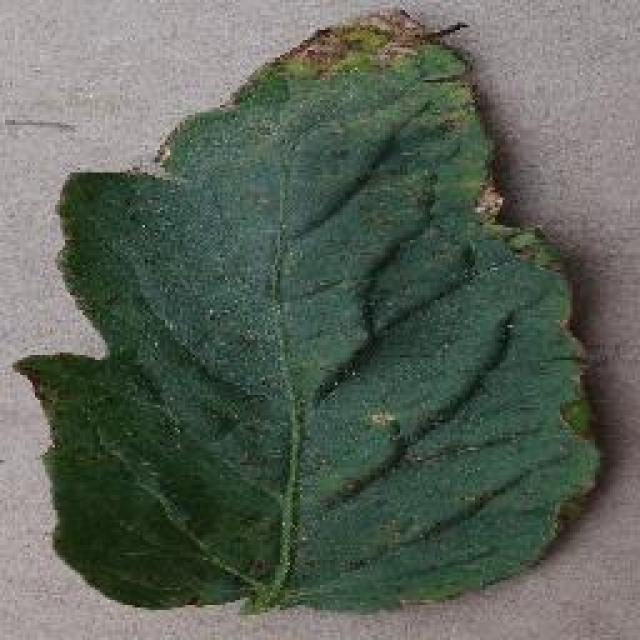Tomato bacterial spot leaf: (3, 6, 616, 622)
